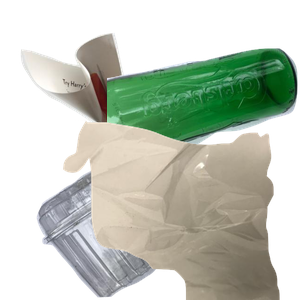glass: (107, 46, 300, 197)
paper: (18, 30, 213, 210)
plastic: (34, 130, 246, 300)
trash: (61, 120, 300, 300)
